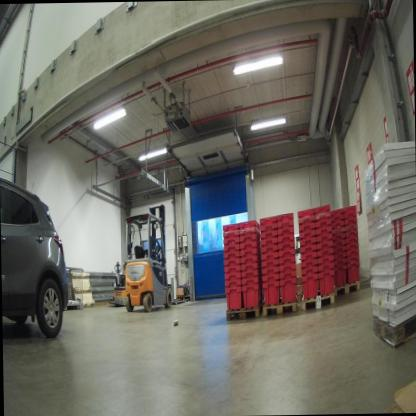forklift: (119, 191, 185, 323)
pallet: (369, 309, 416, 346), (260, 298, 302, 324), (222, 304, 262, 330), (333, 274, 359, 306), (300, 295, 335, 314)
pallet_truck: (106, 249, 126, 310)
small_load_carrier: (277, 274, 297, 308), (317, 269, 337, 300), (260, 279, 279, 310), (242, 282, 260, 314), (222, 287, 242, 315), (300, 272, 318, 300), (345, 261, 362, 288), (333, 266, 348, 290), (238, 216, 260, 230), (276, 238, 297, 252), (297, 241, 316, 256), (295, 206, 314, 220), (277, 223, 297, 236), (313, 201, 330, 216), (315, 214, 332, 229), (341, 211, 359, 225), (239, 276, 260, 288), (298, 249, 317, 262), (327, 232, 346, 245), (314, 224, 333, 236), (277, 262, 296, 274), (277, 211, 294, 224), (276, 247, 298, 257), (259, 251, 279, 262), (239, 246, 261, 256), (313, 209, 331, 221), (299, 237, 317, 249), (276, 233, 297, 243), (297, 223, 316, 234), (258, 271, 277, 282), (259, 266, 278, 277), (259, 258, 278, 269), (258, 230, 277, 241), (237, 229, 260, 238), (317, 261, 334, 273), (221, 271, 241, 281), (315, 237, 333, 248), (327, 206, 345, 217), (239, 224, 257, 235), (317, 231, 333, 243), (317, 246, 333, 258), (279, 254, 298, 264), (259, 214, 278, 224), (221, 280, 240, 290), (221, 219, 240, 229), (298, 229, 316, 239), (342, 240, 360, 250), (331, 236, 347, 247), (300, 259, 319, 268), (223, 243, 242, 252), (261, 243, 278, 253), (222, 258, 243, 266), (345, 247, 360, 258), (276, 220, 294, 229), (239, 261, 259, 269), (238, 238, 257, 246), (223, 251, 242, 259), (221, 229, 240, 237), (344, 227, 359, 237), (239, 269, 260, 276), (297, 215, 315, 223), (278, 271, 298, 278), (221, 236, 241, 243), (317, 255, 334, 263), (260, 237, 277, 245), (259, 222, 276, 230), (331, 253, 348, 261), (345, 253, 360, 262), (330, 219, 343, 229), (345, 203, 358, 213), (327, 211, 343, 219), (342, 234, 358, 242), (300, 268, 318, 275), (331, 223, 345, 232), (222, 266, 240, 273), (345, 221, 359, 229), (333, 258, 345, 266), (330, 247, 346, 252), (239, 256, 259, 260)
